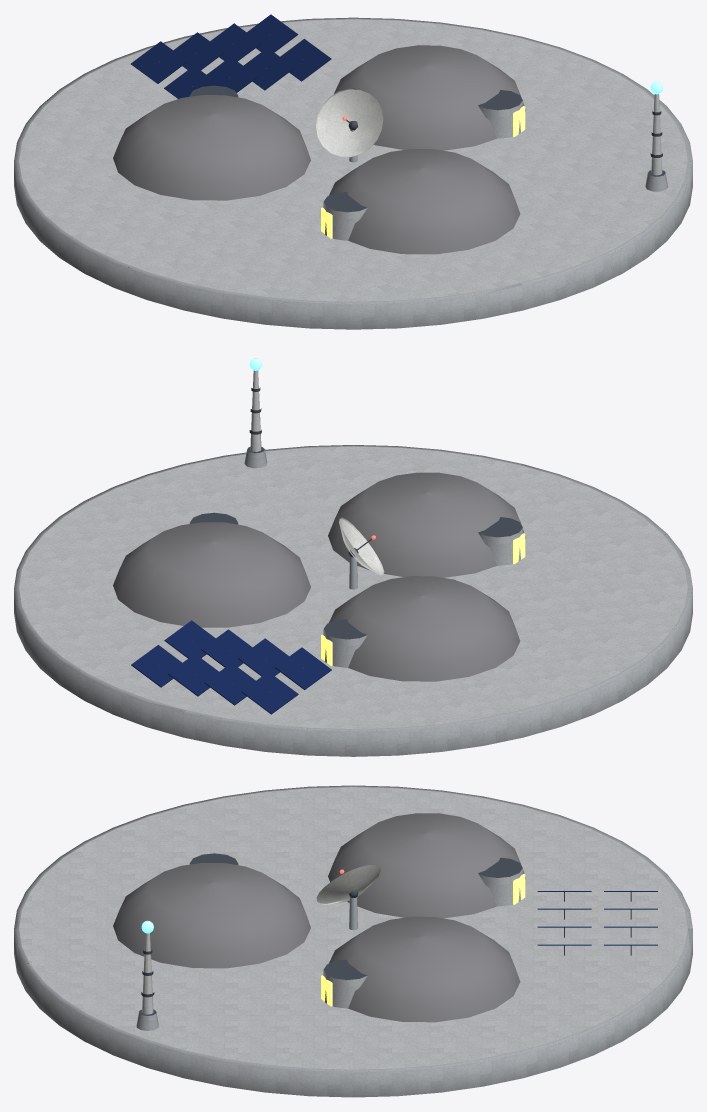
Rendered from moon_burrow_village.glb.
The picture shows the model from 3 angles, top to bottom: view 1: azimuth 30°, elevation 25°; view 2: azimuth 150°, elevation 25°; view 3: azimuth 270°, elevation 25°; orthographic projection.
Visible parts, largest first — view 1: moon_burrow_village_LOD0; view 2: moon_burrow_village_LOD0; view 3: moon_burrow_village_LOD0.
Boxes of the visible parts, x1=… form: moon_burrow_village_LOD0: x1=14, y1=14, x2=692, y2=329; moon_burrow_village_LOD0: x1=14, y1=358, x2=692, y2=756; moon_burrow_village_LOD0: x1=14, y1=785, x2=692, y2=1097.
Size of what is drawn, in the model's own units: 52.8 by 11.2 by 52.8.
Materials: 2 (2 with a texture image).
